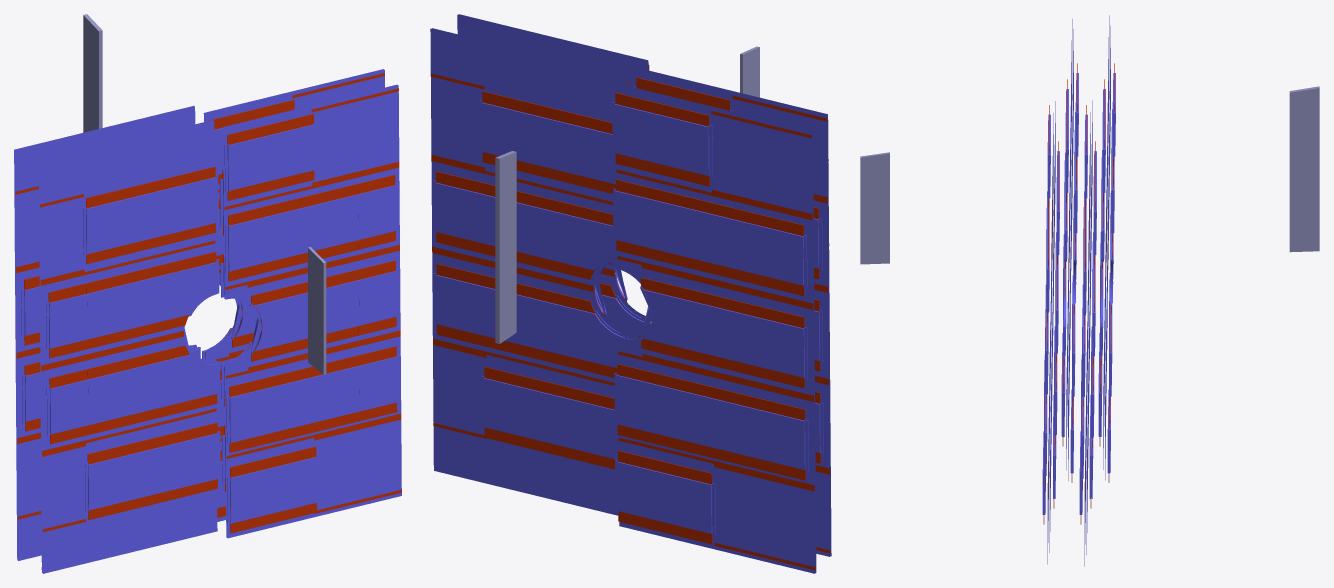
Rendered from g5_mag_ddip.glb.
The picture shows the model from 3 angles, left to right: view 1: azimuth 30°, elevation 25°; view 2: azimuth 150°, elevation 25°; view 3: azimuth 270°, elevation 25°; orthographic projection. The views are drawn at different scales.
Visible parts, largest first — view 1: Mesh_0; view 2: Mesh_0; view 3: Mesh_0.
Boxes of the visible parts, bbox=[...] form: Mesh_0: bbox=[14, 14, 401, 573]; Mesh_0: bbox=[430, 14, 831, 573]; Mesh_0: bbox=[860, 15, 1319, 566].
Bounding box in the file's own units: 334 × 372 × 385.
